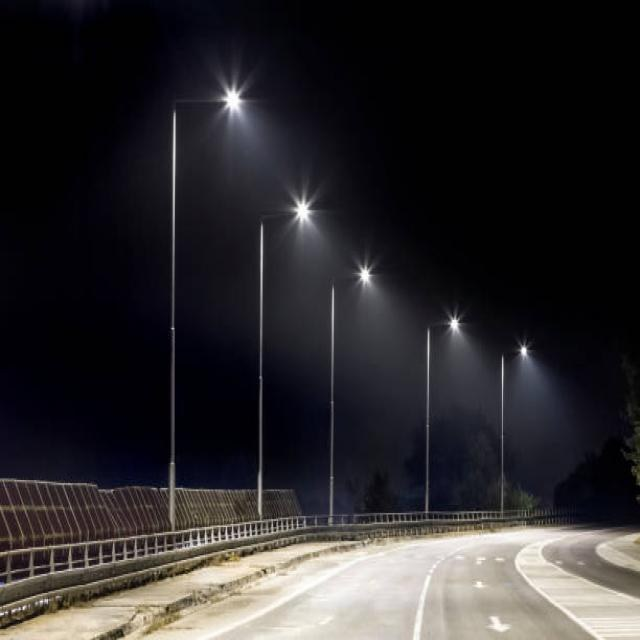acesa: (208, 65, 258, 132), (345, 248, 384, 292), (283, 185, 322, 228), (440, 301, 471, 337), (515, 337, 534, 361)
